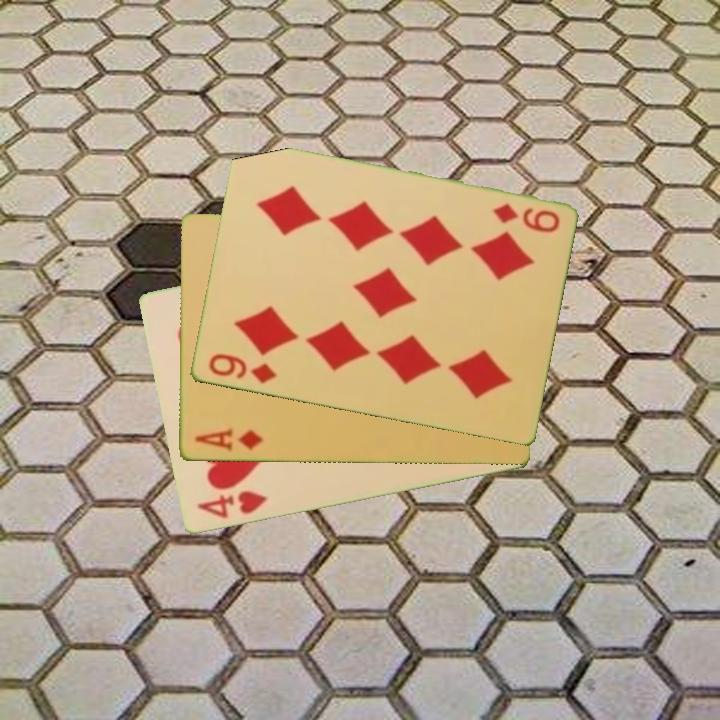4h: (193, 487, 270, 522)
9d: (204, 350, 279, 387), (488, 200, 562, 236)
Ad: (191, 425, 265, 454)
